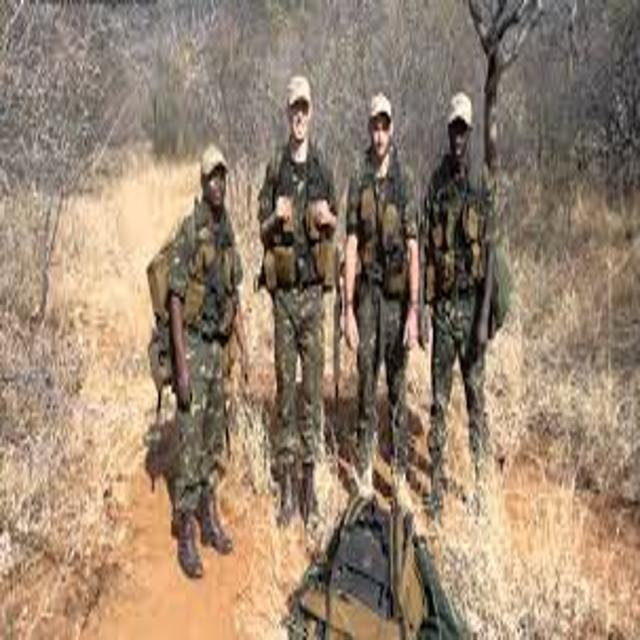backpack: (248, 458, 511, 640), (113, 211, 228, 415), (460, 218, 551, 354)
ranger: (212, 47, 373, 561), (387, 71, 546, 550), (119, 122, 263, 590), (308, 69, 448, 549)
